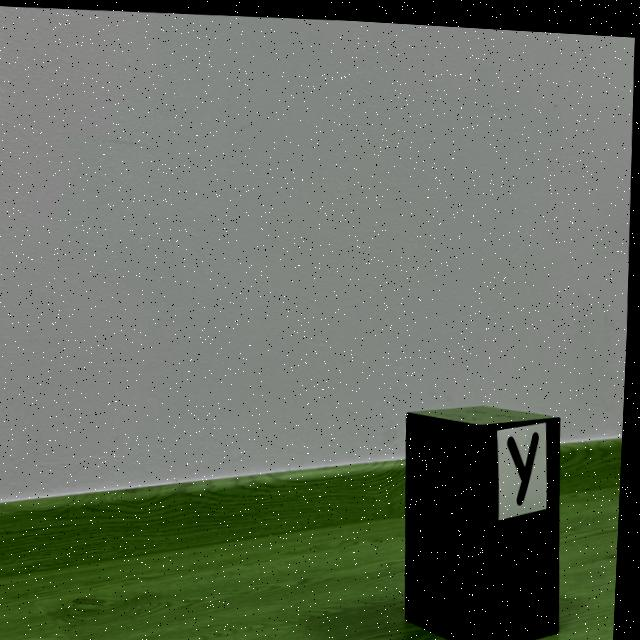Y: (511, 425, 542, 498)
